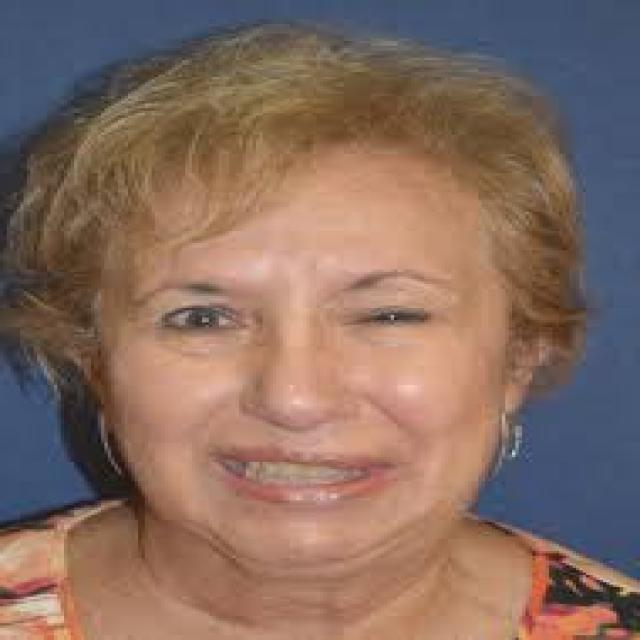stroke_face: (53, 75, 558, 576)
